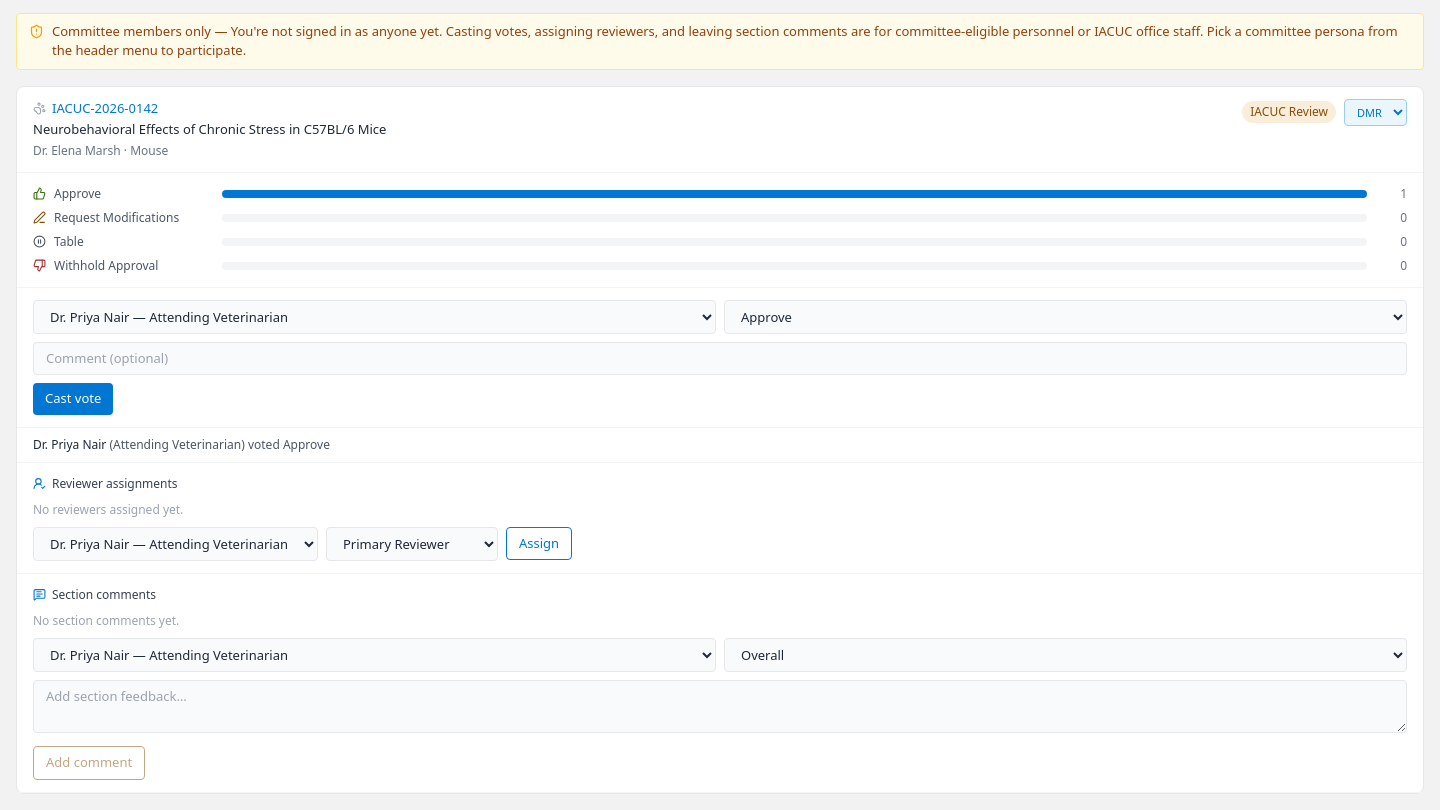
Test: CommitteePage › shows an error when posting a comment fails
(page scrolled)
Expected: the text "IACUC-2026-0142" is shown, [33,98,158,116]
Type "needs work" into the text box with placeholder "Add section feedback…" at (720, 706), box [33,680,1407,732]
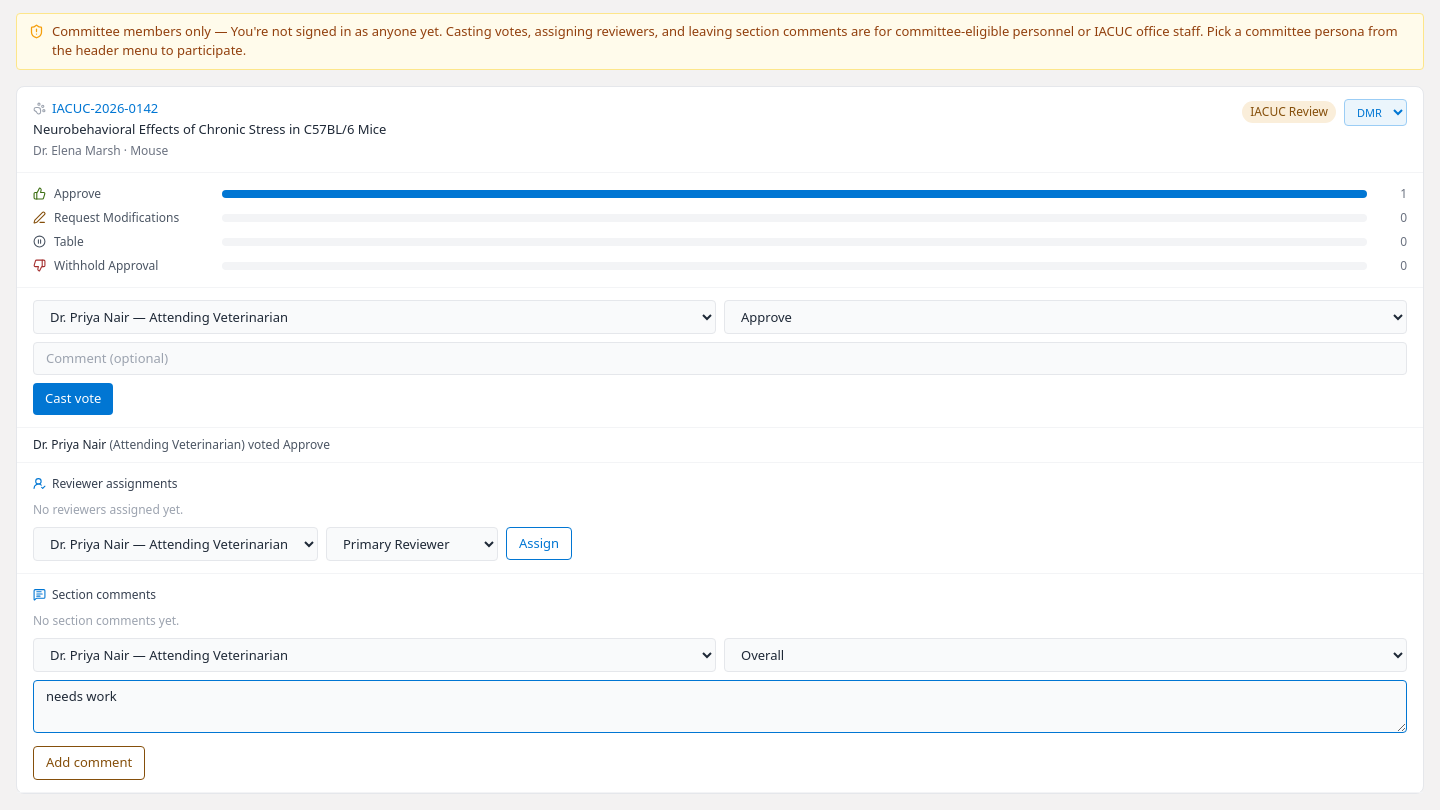
Click the button "Add comment" at (89, 763), box [33,746,145,780]
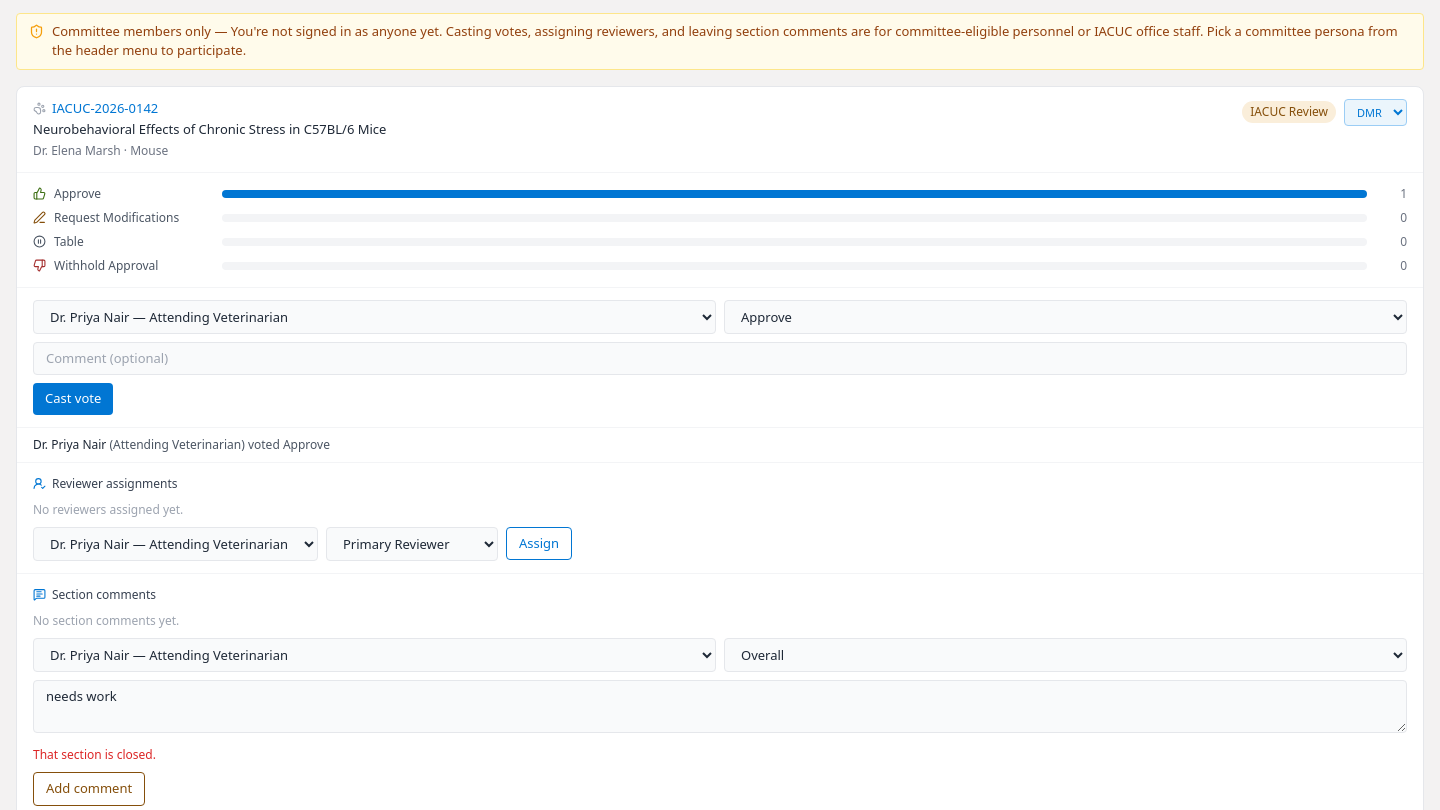
Expected: the text "That section is closed." is shown, [33,746,156,763]
